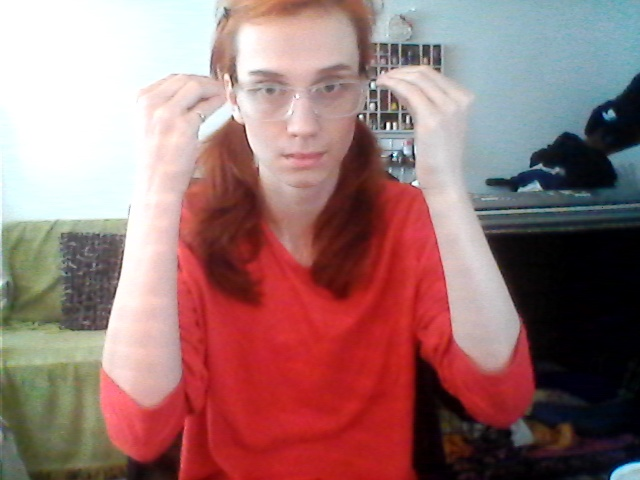ucit: (104, 23, 522, 202)
